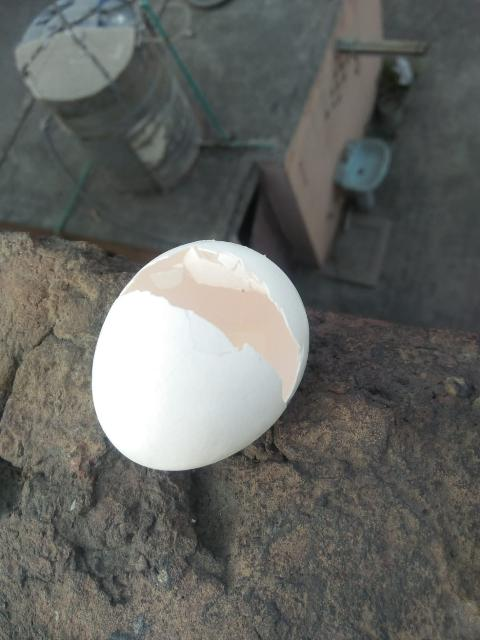Roto: (90, 238, 310, 472)
